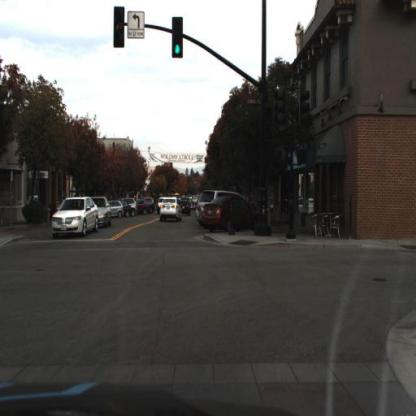car: (51, 195, 102, 239), (203, 201, 259, 232), (195, 191, 242, 221), (159, 196, 183, 223), (105, 198, 126, 223), (95, 198, 112, 225), (180, 199, 192, 222), (146, 198, 157, 217), (111, 201, 123, 218), (127, 199, 138, 217), (137, 202, 149, 218), (123, 200, 133, 218)
trafficLight: (115, 7, 124, 46)
trafficLight-Green: (172, 20, 184, 57)
